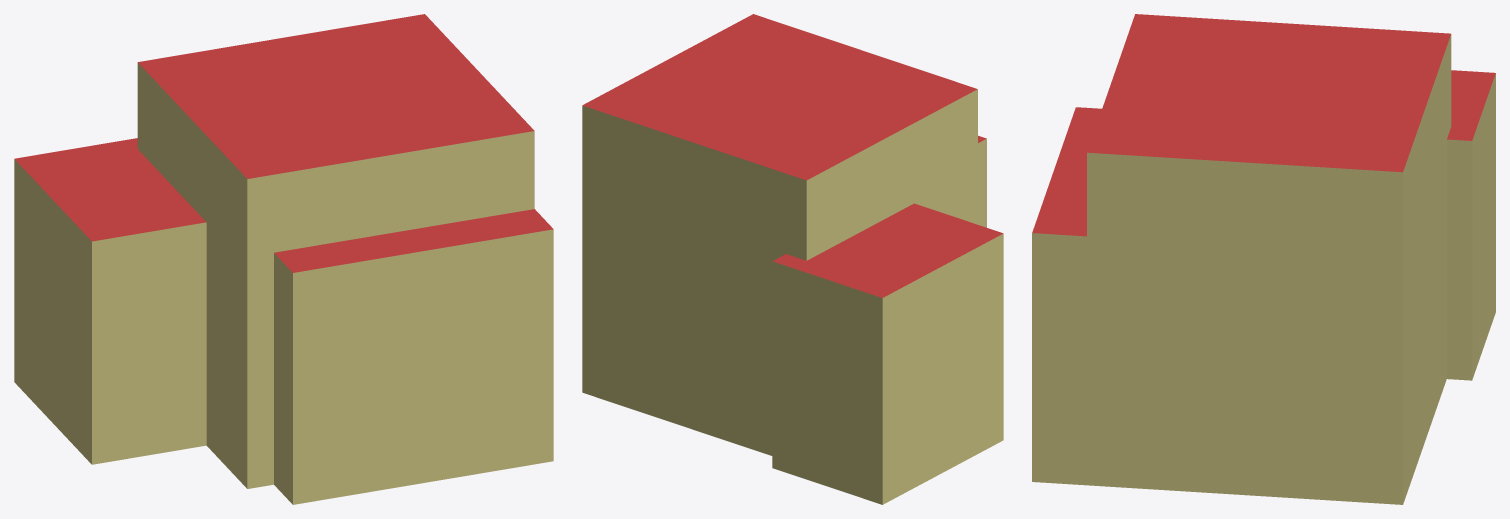
3 renders of one model, left to right at view 1: azimuth 30°, elevation 25°; view 2: azimuth 150°, elevation 25°; view 3: azimuth 270°, elevation 25°, orthographic. The views are drawn at different scales.
Size of the model in its own units: 15.42 by 14.65 by 11.59.
